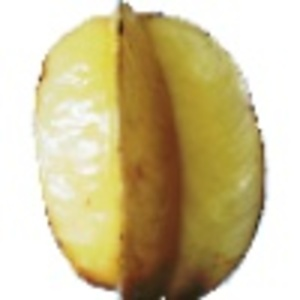carambola: (32, 1, 267, 300)
